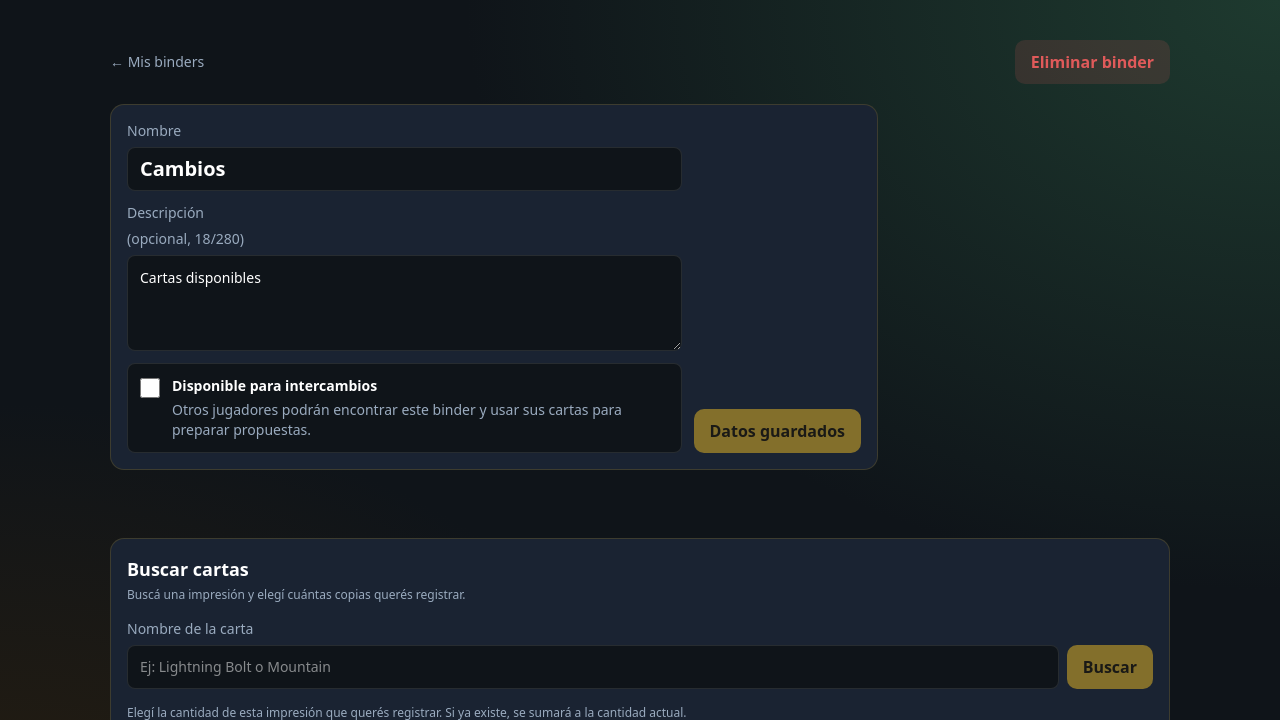
saves explicit trade availability and adopts the confirmed response
Click the checkbox labelled "Disponible para intercambios" at x=150, y=388, box [140,378,160,398]
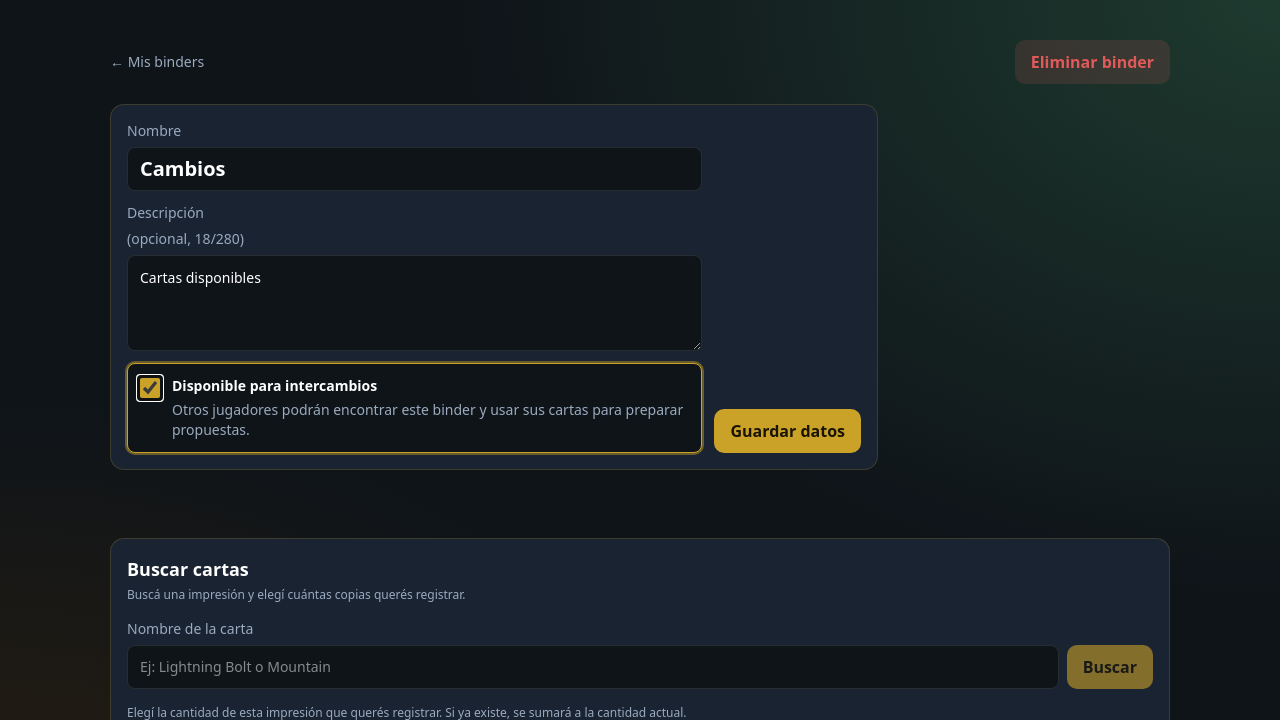
Click the button "Guardar datos" at x=788, y=431, box [714,409,861,453]
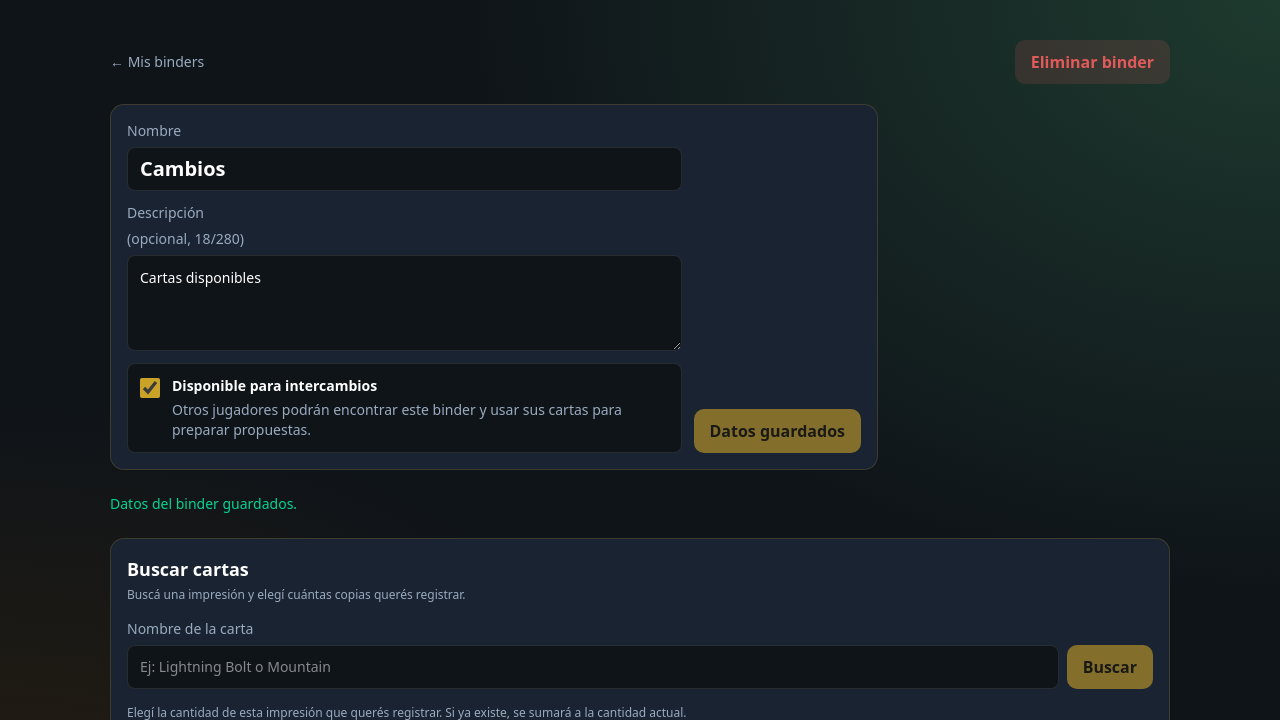
Check: the checkbox labelled "Disponible para intercambios" is checked, box [140,378,160,398]
Check: the message reads "Datos del binder guardados.", box [110,494,297,513]
